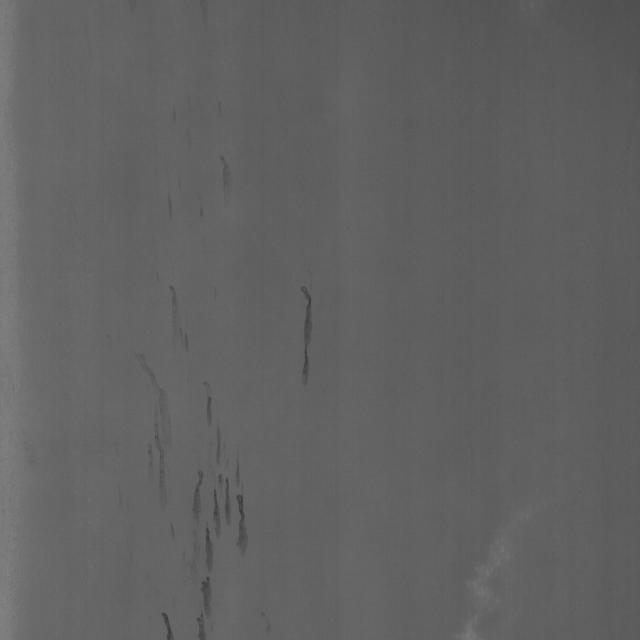water_spot: (190, 412, 251, 584), (137, 335, 178, 484), (294, 263, 328, 397), (185, 568, 215, 638)
